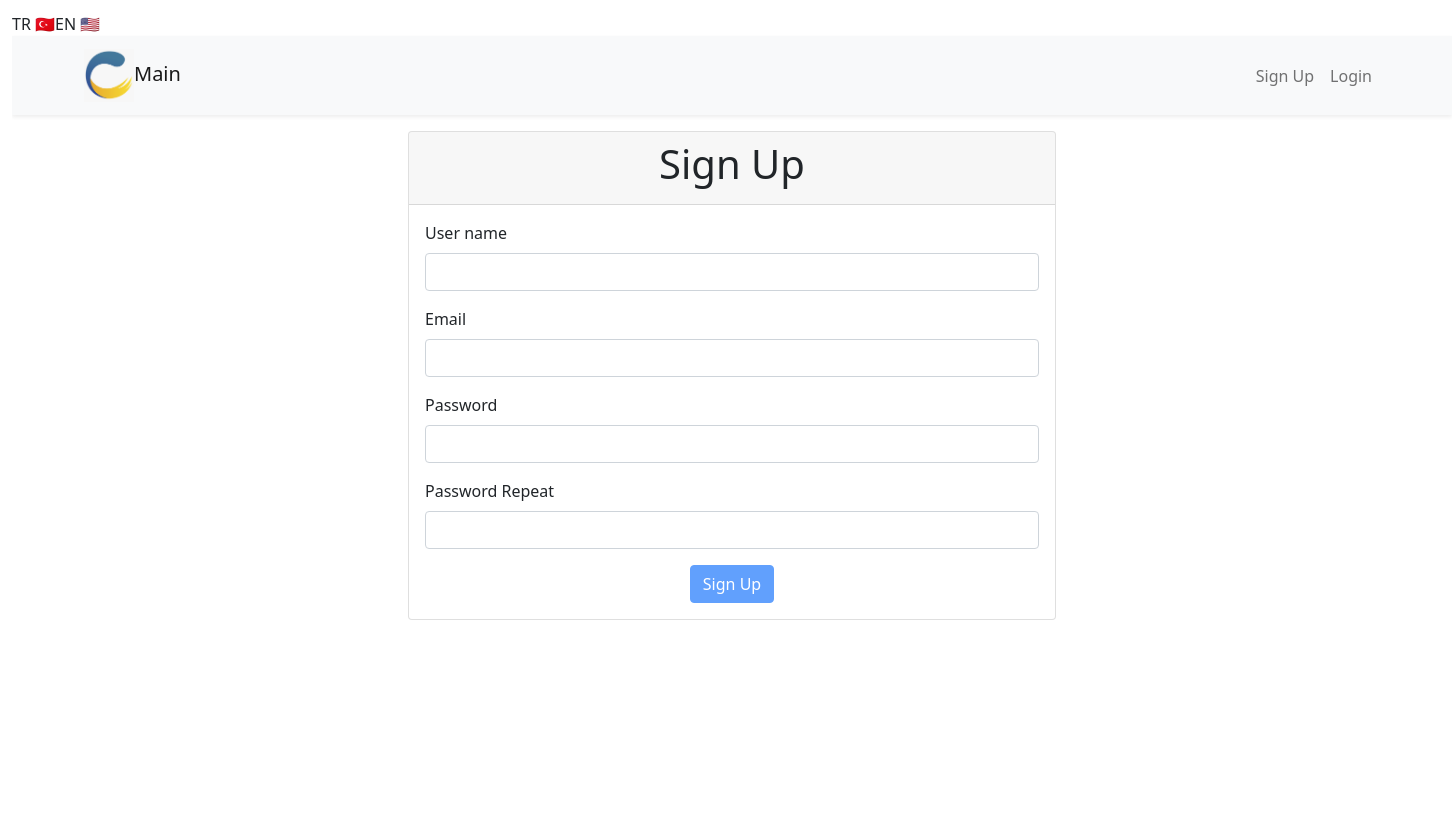
Test: Routing › displays login-page after clicking Login link
Click the link "Login".
click(1351, 76)  # box [1330, 65, 1372, 87]
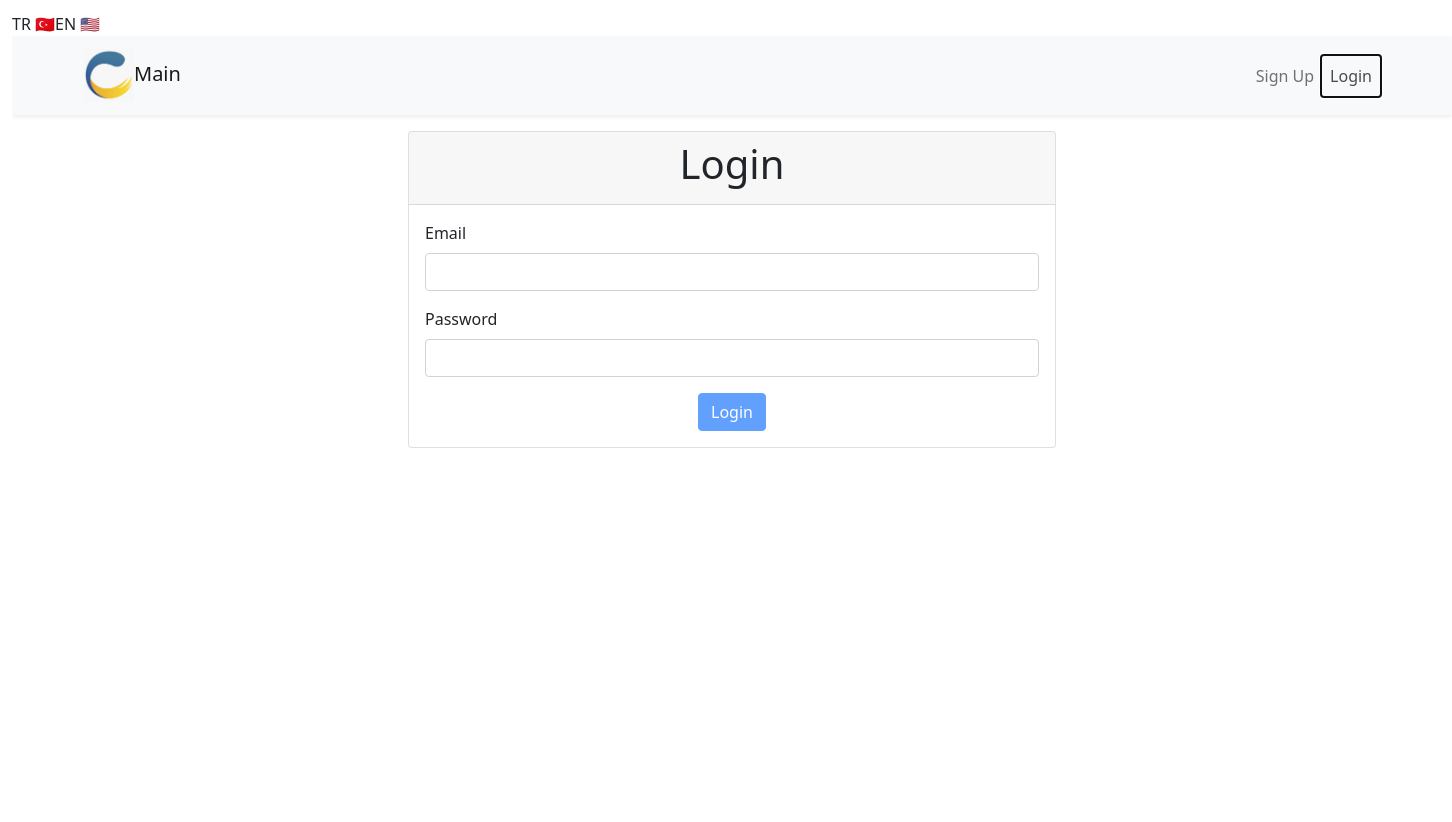
Check: the element with test id "login-page" is shown, box [408, 131, 1056, 448]
